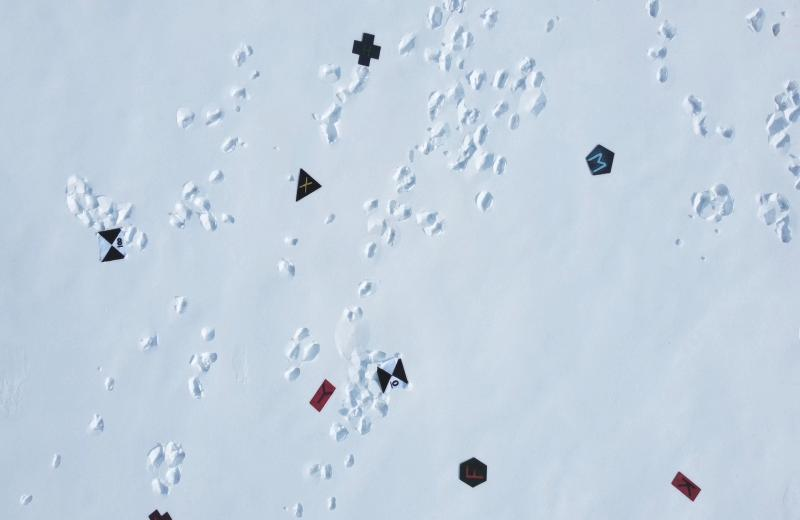Cross: (348, 25, 384, 72)
Hexagon: (454, 456, 493, 494)
Pentagon: (582, 140, 619, 181)
Rectangle: (306, 377, 342, 420), (667, 463, 704, 503)
Triangle: (290, 165, 326, 205)
